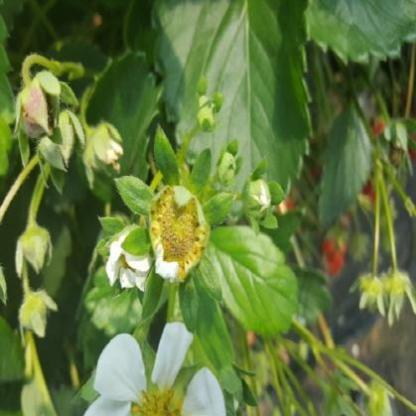Strawberry_Blossom_Blight: (148, 185, 209, 282)
